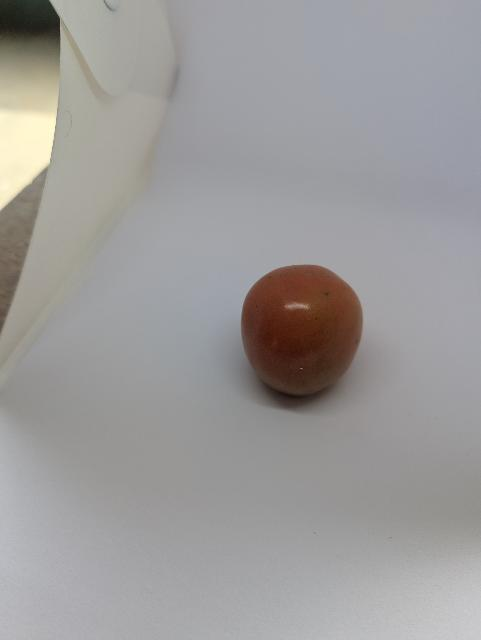red: (241, 261, 365, 396)
